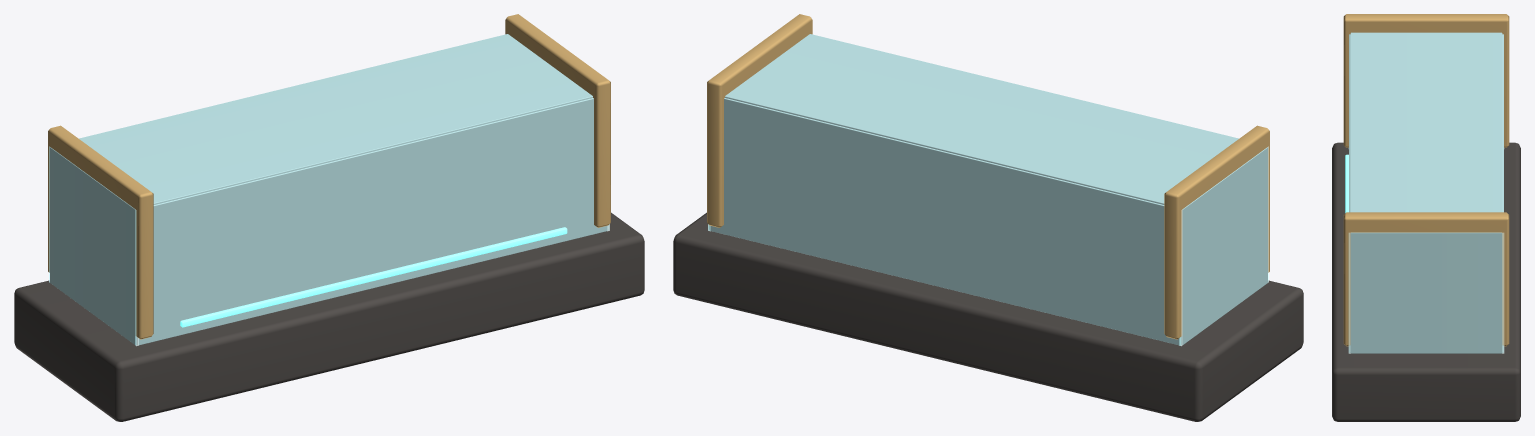
File: hp_furniture_museum_horizontal_tool_case_v1.glb
The picture shows the model from 3 angles, left to right: view 1: azimuth 30°, elevation 25°; view 2: azimuth 150°, elevation 25°; view 3: azimuth 270°, elevation 25°; orthographic projection. The views are drawn at different scales.
Parts seen in each view (by area): view 1: glass_front_panel.001, long_museum_plinth, contained_cyan_energy_tube; view 2: glass_front_panel.001, long_museum_plinth; view 3: glass_front_panel.001, long_museum_plinth, glass_vertical_edge_glint.004, contained_cyan_energy_tube.
Part boxes in pixels (<box>): glass_front_panel.001: <box>50,34,608,345</box>; long_museum_plinth: <box>14,14,644,421</box>; contained_cyan_energy_tube: <box>180,227,567,327</box>; glass_front_panel.001: <box>709,34,1267,345</box>; long_museum_plinth: <box>673,14,1303,421</box>; glass_front_panel.001: <box>1349,32,1503,353</box>; long_museum_plinth: <box>1332,14,1520,421</box>; glass_vertical_edge_glint.004: <box>1348,148,1504,353</box>; contained_cyan_energy_tube: <box>1345,154,1348,212</box>.
Bounding box in the file's own units: 2.36 × 0.93 × 0.82.
Materials: 4 (4 with a texture image).
